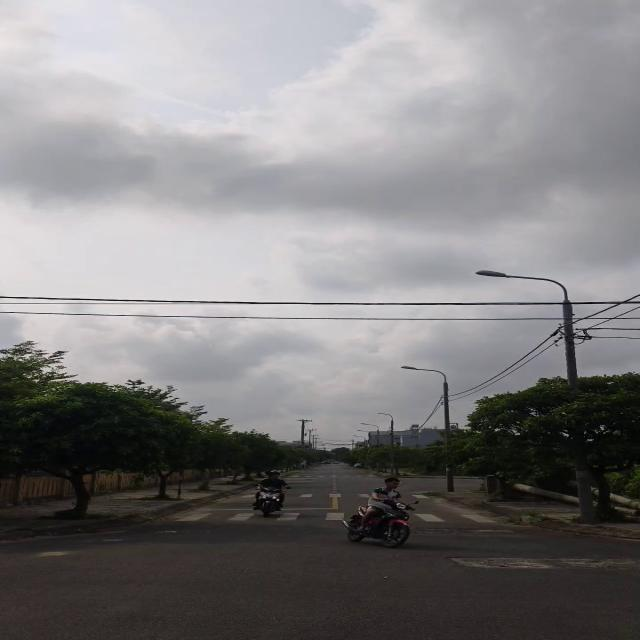no_helmet: (382, 474, 402, 493)
